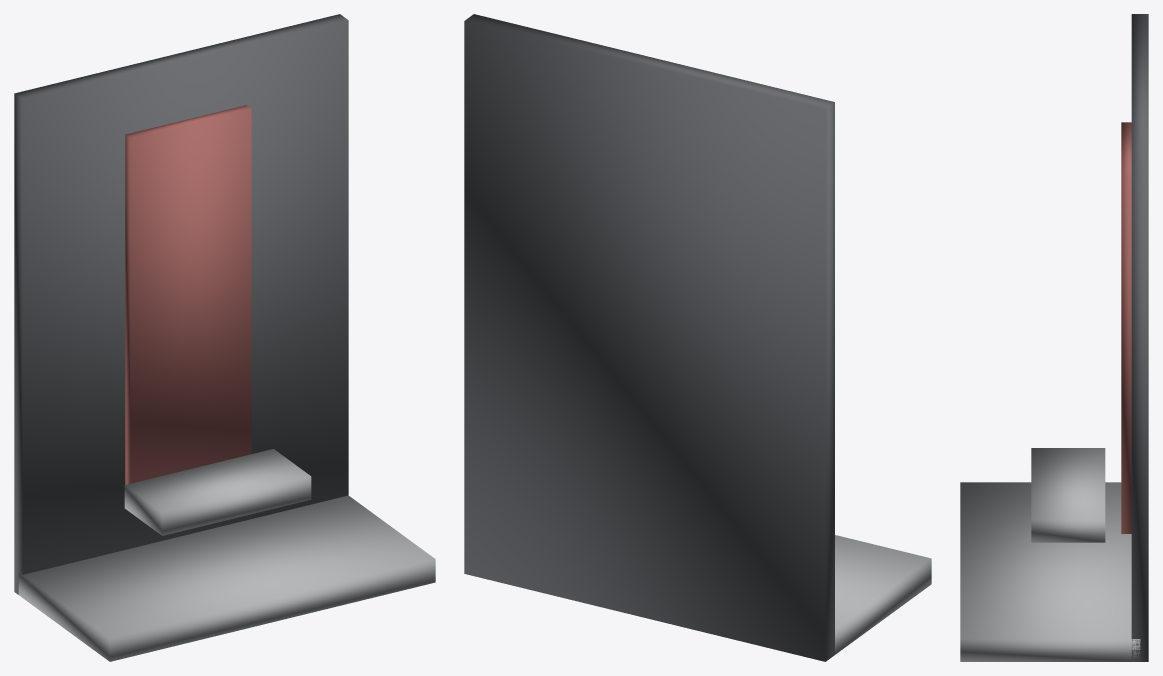
The model's file is roof_access_hatch_stair_04.glb.
3 renders of one model, left to right at view 1: azimuth 30°, elevation 25°; view 2: azimuth 150°, elevation 25°; view 3: azimuth 270°, elevation 25°, orthographic. The views are drawn at different scales.
Parts seen in each view (by area): view 1: world; view 2: world; view 3: world.
Part boxes in pixels (x1,y1,x2,y2): world: (14,14,435,661); world: (464,14,931,661); world: (960,14,1148,661).
Bounding box in the file's own units: 1.75 × 2.56 × 0.89.
